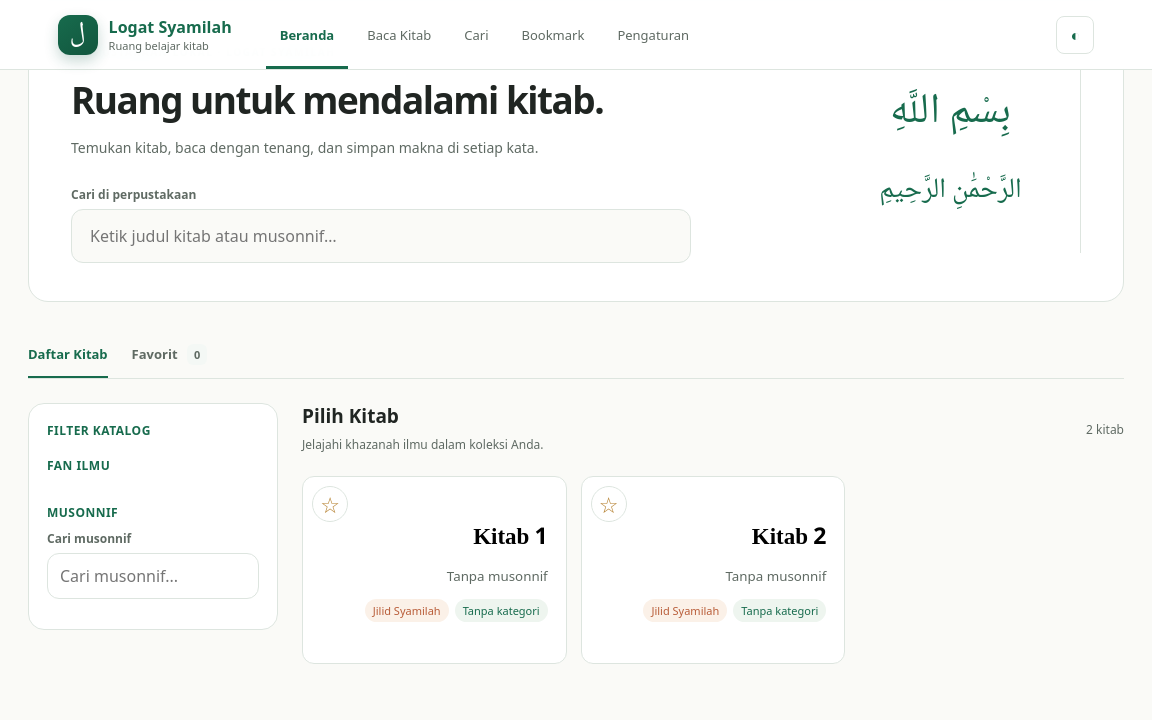
Test: offers volume navigation directly above the page without opening the index
(page scrolled)
Click the button with class "book-card" that starts with "Kitab 1": [510, 539] box [303,477,566,663]
(page scrolled)
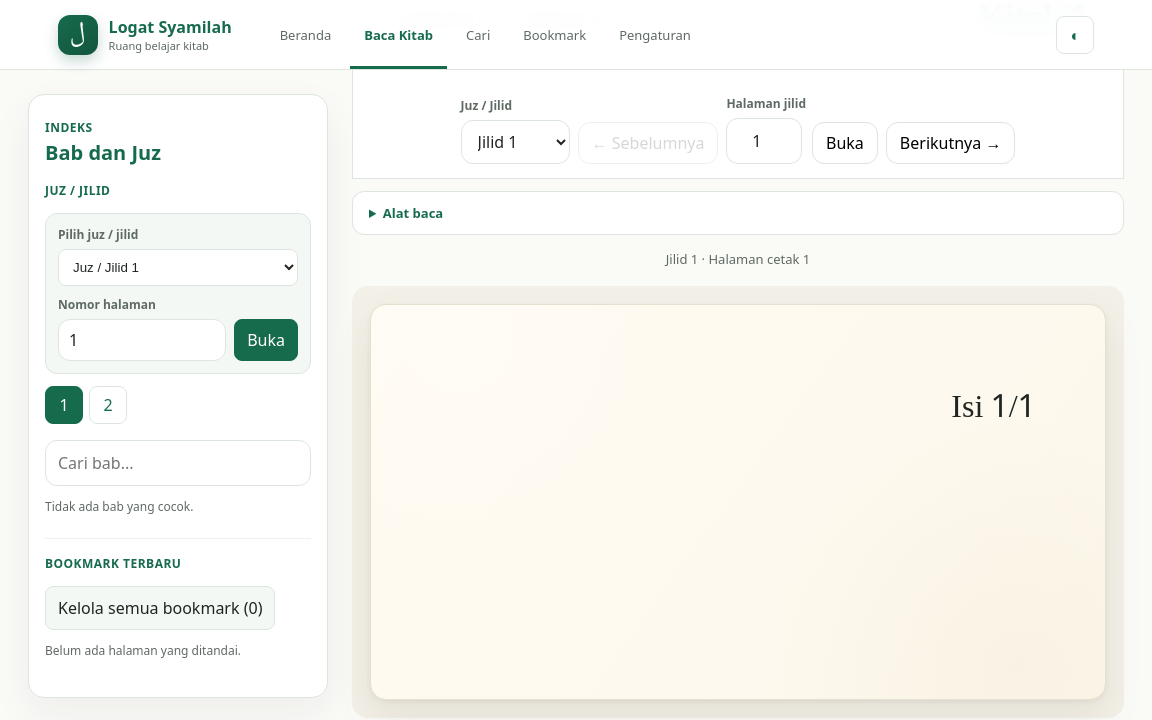
Result: the dropdown labelled "Juz / Jilid" is enabled
Select "Jilid 2" in the dropdown labelled "Juz / Jilid": [515, 142] box [461,120,570,164]
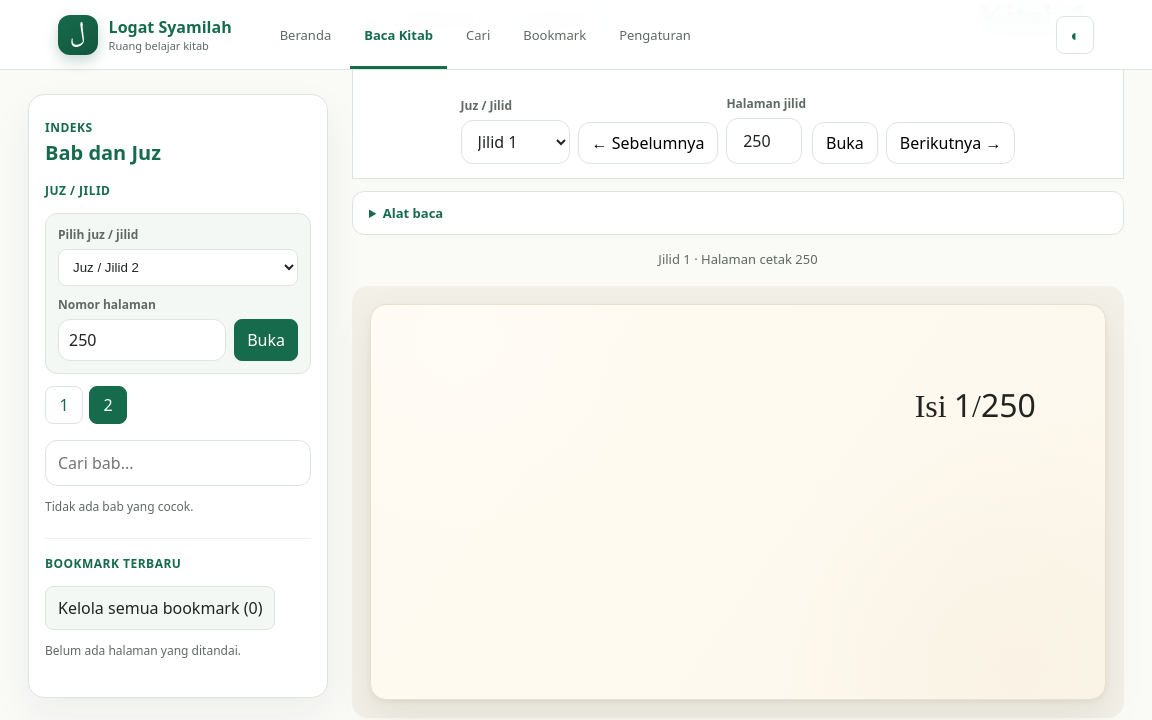
Result: the number field labelled "Halaman jilid" holds "250" at [726,118,802,164]
